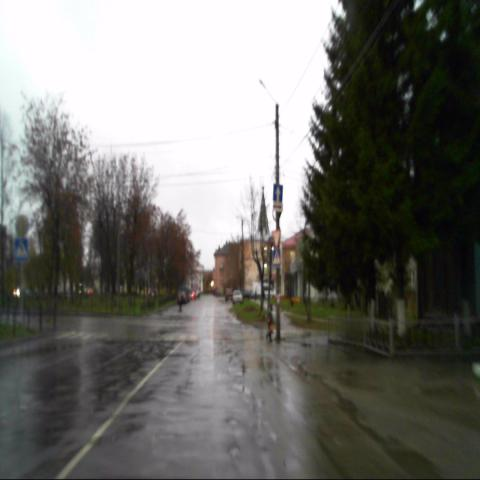2_4: (271, 229, 280, 247)
5_19_1: (272, 248, 280, 266)
5_5: (273, 184, 283, 201)
8_3_1: (272, 201, 284, 212)
